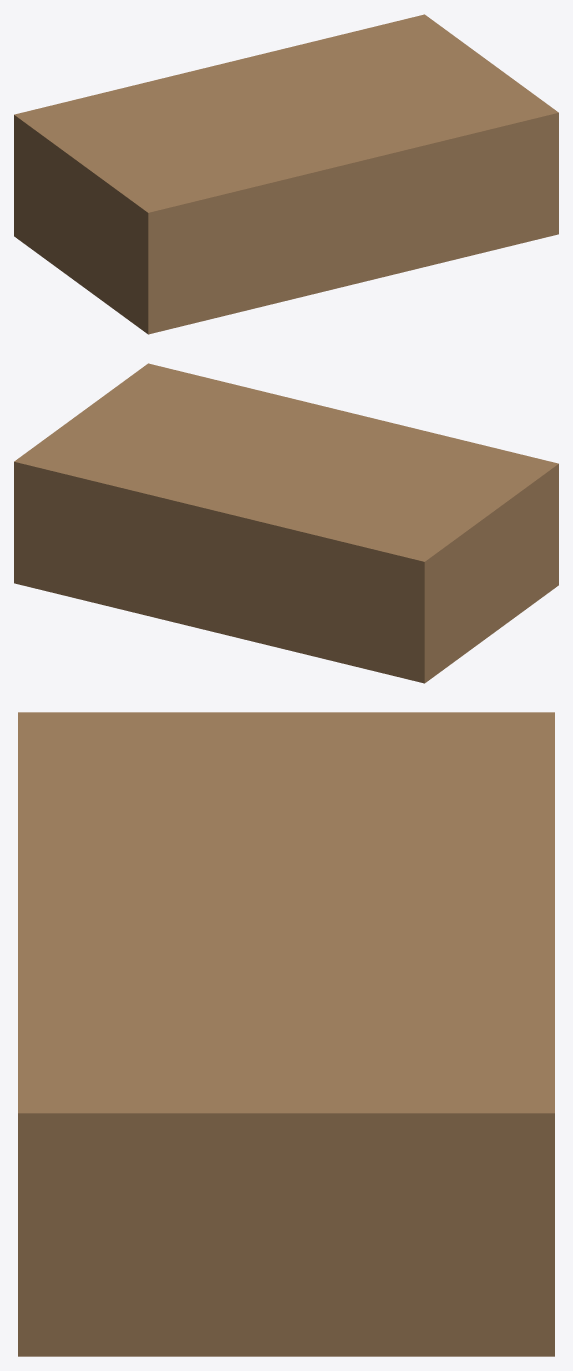
Rendered from escoteiro_cintura.glb.
3 views of the same model, one above another, from view 1: azimuth 30°, elevation 25°; view 2: azimuth 150°, elevation 25°; view 3: azimuth 270°, elevation 25° (orthographic). The views are drawn at different scales.
Visible parts, largest first — view 1: escoteiro_cintura; view 2: escoteiro_cintura; view 3: escoteiro_cintura.
Boxes of the visible parts, x1,y1,x2,y2 form: escoteiro_cintura: (14,14,558,334); escoteiro_cintura: (14,363,558,683); escoteiro_cintura: (18,712,554,1356).
Size of the model in its own units: 0.53 by 0.15 by 0.3.
